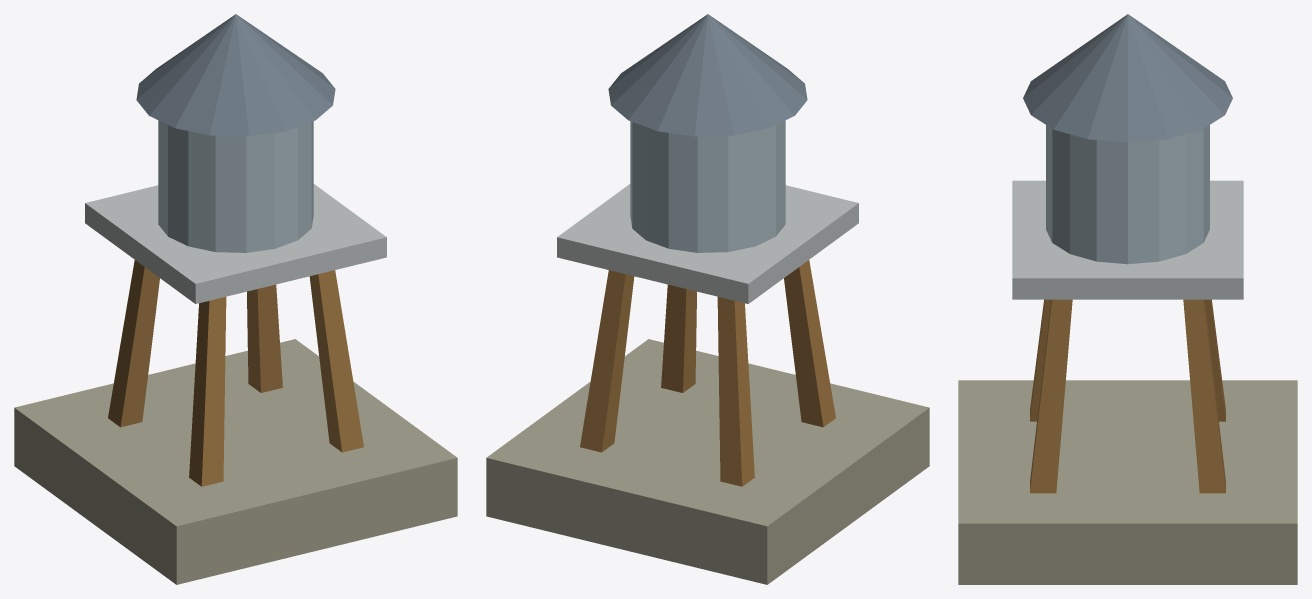
Rendered from water tower.fbx.
3 renders of one model, left to right at view 1: azimuth 30°, elevation 25°; view 2: azimuth 150°, elevation 25°; view 3: azimuth 270°, elevation 25°, orthographic. The views are drawn at different scales.
Visible parts, largest first — view 1: water tank; view 2: water tank; view 3: water tank.
Boxes of the visible parts, x1,y1,x2,y2 form: water tank: [14, 14, 457, 584]; water tank: [486, 14, 929, 584]; water tank: [958, 14, 1297, 584].
Bounding box in the file's own units: 6.05 × 9.82 × 6.05.
